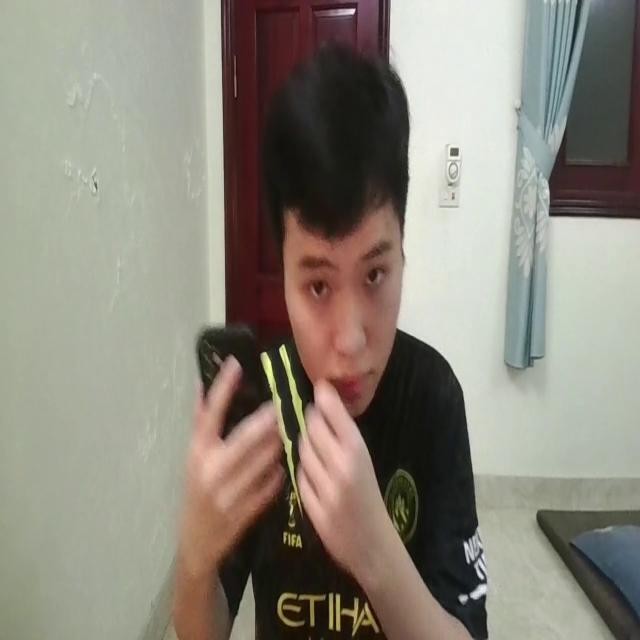phone: (195, 317, 286, 551)
student: (167, 37, 486, 640)
